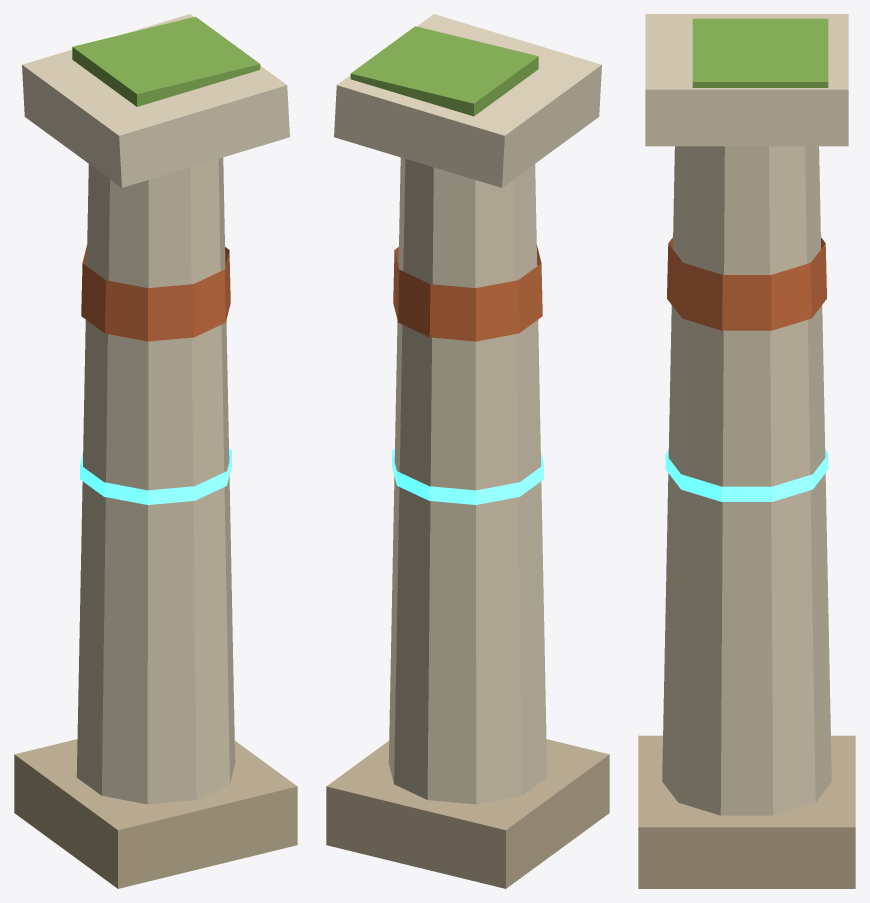
Rendered from pillar.glb.
3 renders of one model, left to right at view 1: azimuth 30°, elevation 25°; view 2: azimuth 150°, elevation 25°; view 3: azimuth 270°, elevation 25°, orthographic. The views are drawn at different scales.
Visible parts, largest first — view 1: pillar; view 2: pillar; view 3: pillar.
Part boxes in pixels (left/top/right/bottom): pillar: left=14, top=14, right=297, bottom=888; pillar: left=326, top=14, right=609, bottom=888; pillar: left=638, top=14, right=855, bottom=888.
Size of the model in its own units: 3.2 by 13.02 by 3.2.
